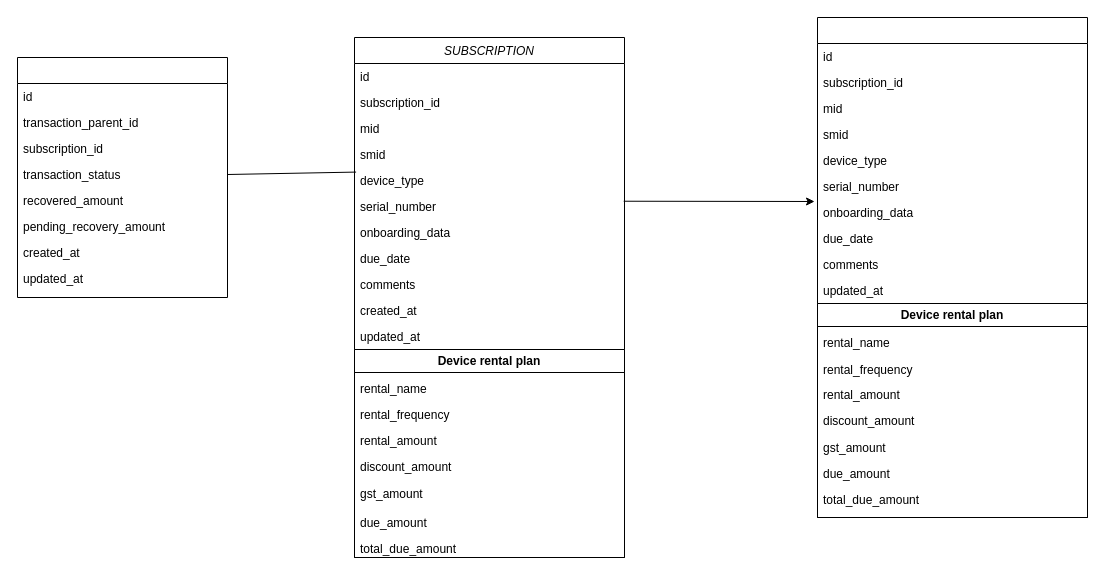
The diagram is 1105 pixels wide and 582 high, and some of its shapes have lost their labels. Each missing label, with the box of its shape:
SUBSCRIPTION_AUDIT: (816, 16, 1088, 518)
SUBSCRIPTION_DEDUCTION: (16, 56, 228, 298)
